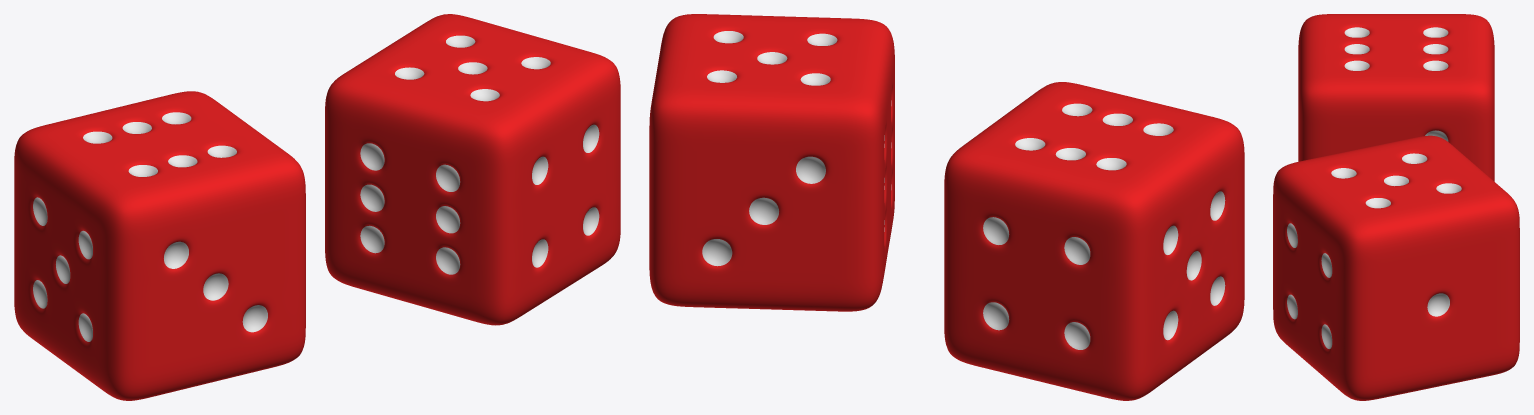
3 views of the same model, side by side, from view 1: azimuth 30°, elevation 25°; view 2: azimuth 150°, elevation 25°; view 3: azimuth 270°, elevation 25° (orthographic). The views are drawn at different scales.
Parts seen in each view (by area): view 1: Cube.001, Cube; view 2: Cube, Cube.001; view 3: Cube.001, Cube.
Boxes of the visible parts, x1,y1,x2,y2 form: Cube.001: [325, 14, 620, 325]; Cube: [14, 91, 305, 400]; Cube: [944, 82, 1244, 400]; Cube.001: [649, 14, 894, 311]; Cube.001: [1273, 135, 1519, 400]; Cube: [1298, 14, 1494, 181].
Size of the model in its own units: 543 by 200 by 251.
